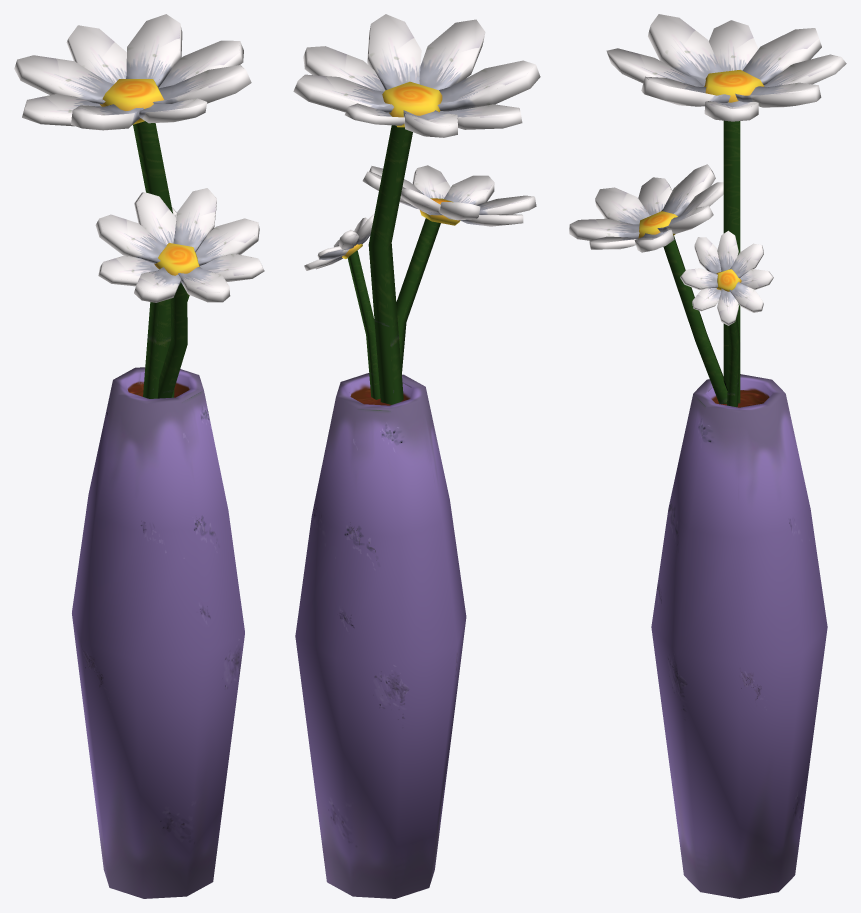
Rendered from CityKit2.fbx_SunflowersVase.fbx.
3 renders of one model, left to right at view 1: azimuth 30°, elevation 25°; view 2: azimuth 150°, elevation 25°; view 3: azimuth 270°, elevation 25°, orthographic.
Visible parts, largest first — view 1: SunflowersVase; view 2: SunflowersVase; view 3: SunflowersVase.
Part boxes in pixels (box(x1,y1,x2,y2)): SunflowersVase: box(14, 14, 264, 898); SunflowersVase: box(293, 14, 540, 898); SunflowersVase: box(569, 14, 846, 898).
Size of the model in its own units: 67 by 239 by 73.82.
Materials: 2 (2 with a texture image).
